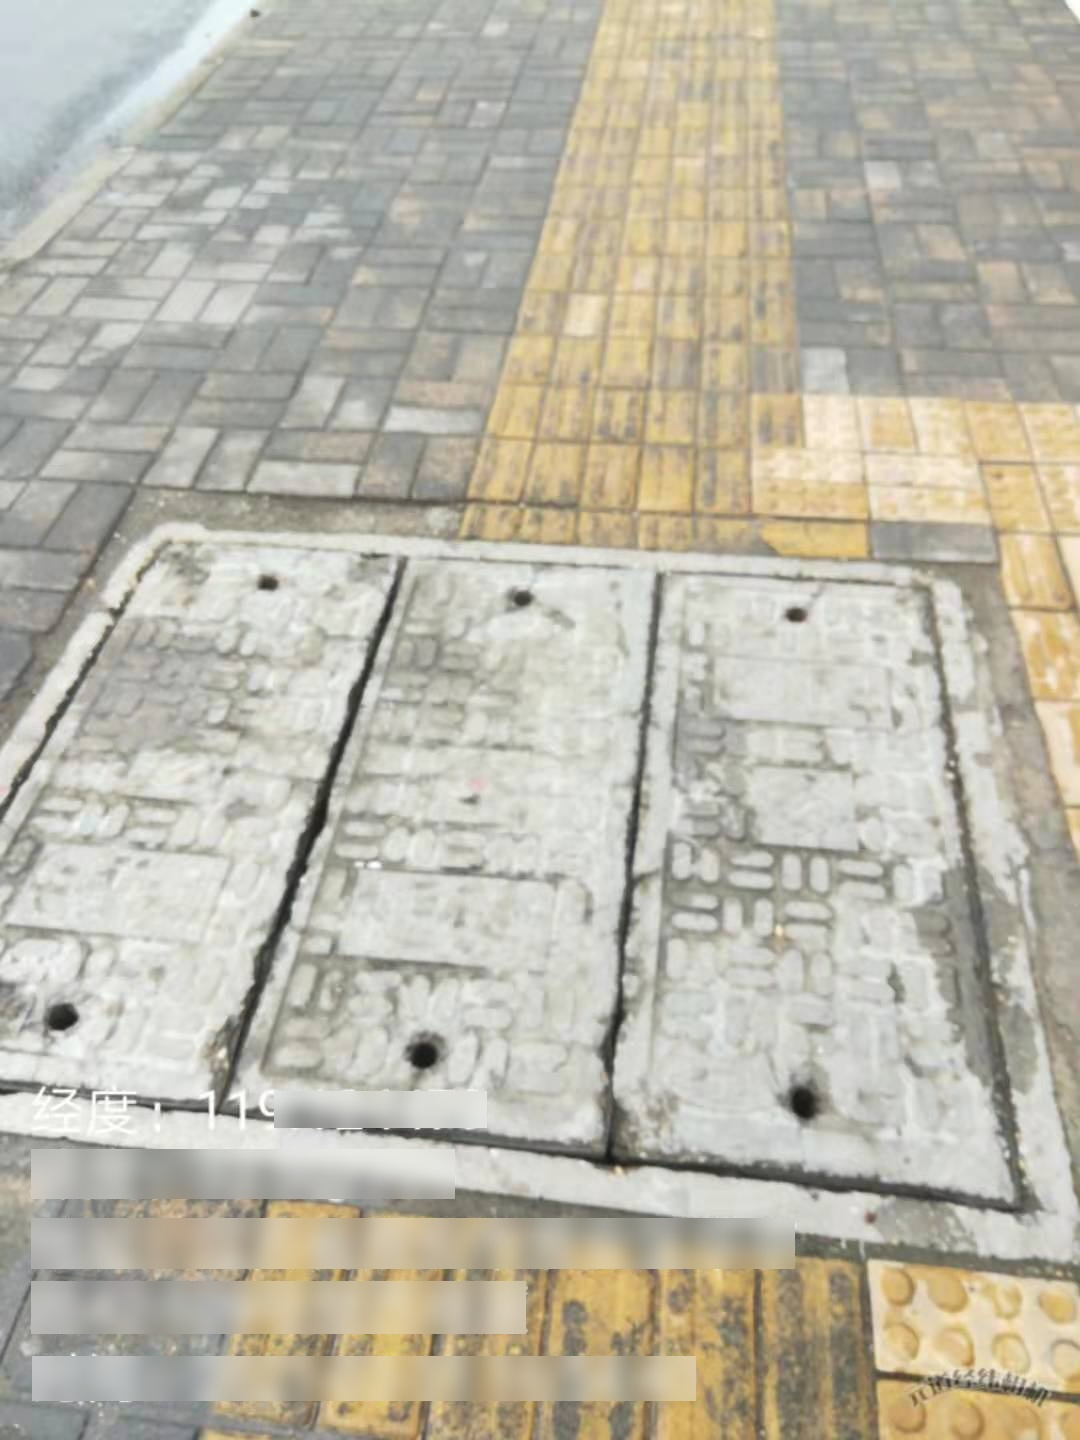well: (0, 525, 1070, 1277)
